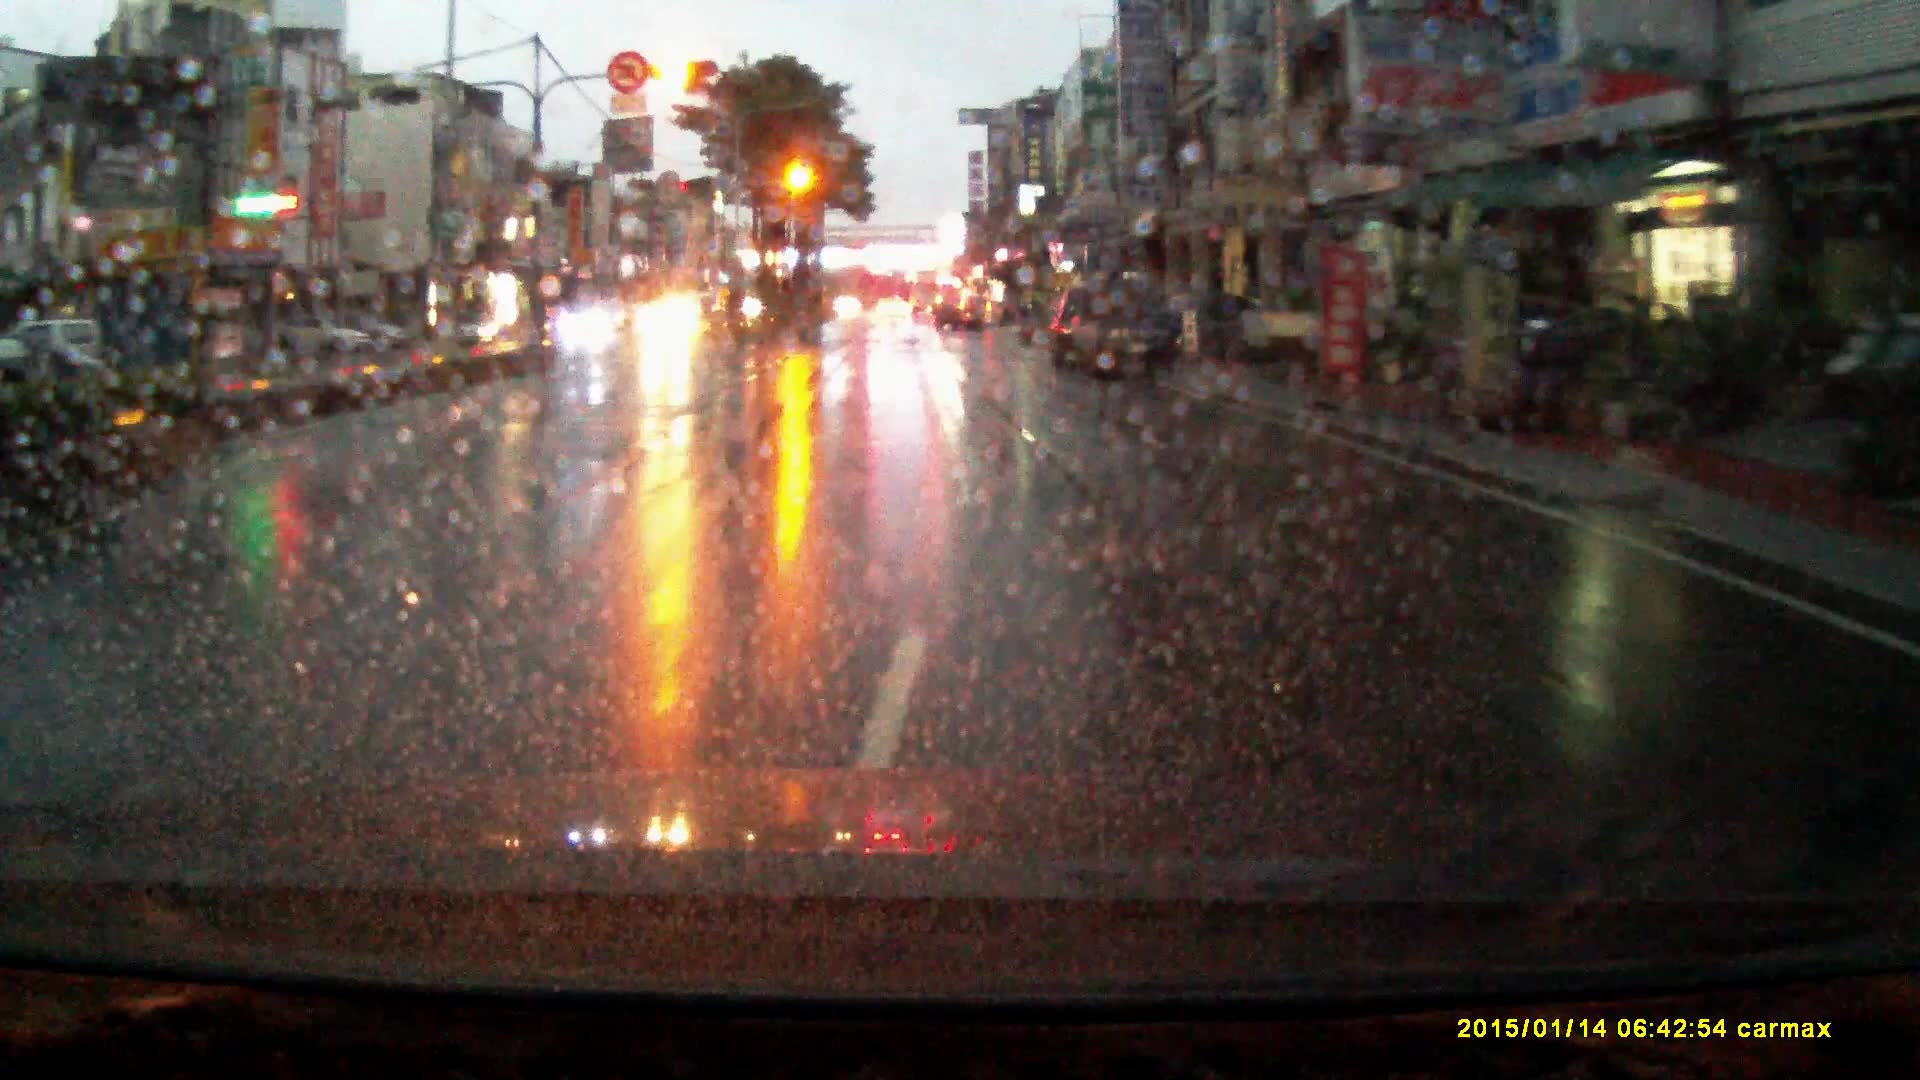vehicle: (1068, 278, 1184, 385), (1240, 311, 1338, 357), (266, 314, 368, 357), (634, 295, 707, 348), (1048, 287, 1084, 369), (936, 289, 996, 332), (560, 305, 621, 345), (440, 310, 501, 347), (348, 319, 413, 353), (911, 272, 944, 315), (877, 298, 913, 320)
